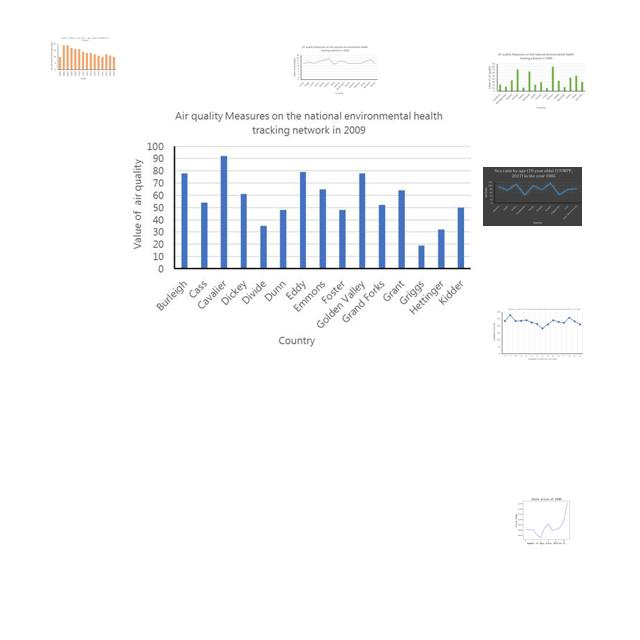Graph: (122, 100, 479, 352), (485, 51, 588, 110), (483, 167, 582, 226), (491, 306, 585, 363), (291, 44, 379, 96), (512, 495, 579, 545), (49, 36, 117, 81)
